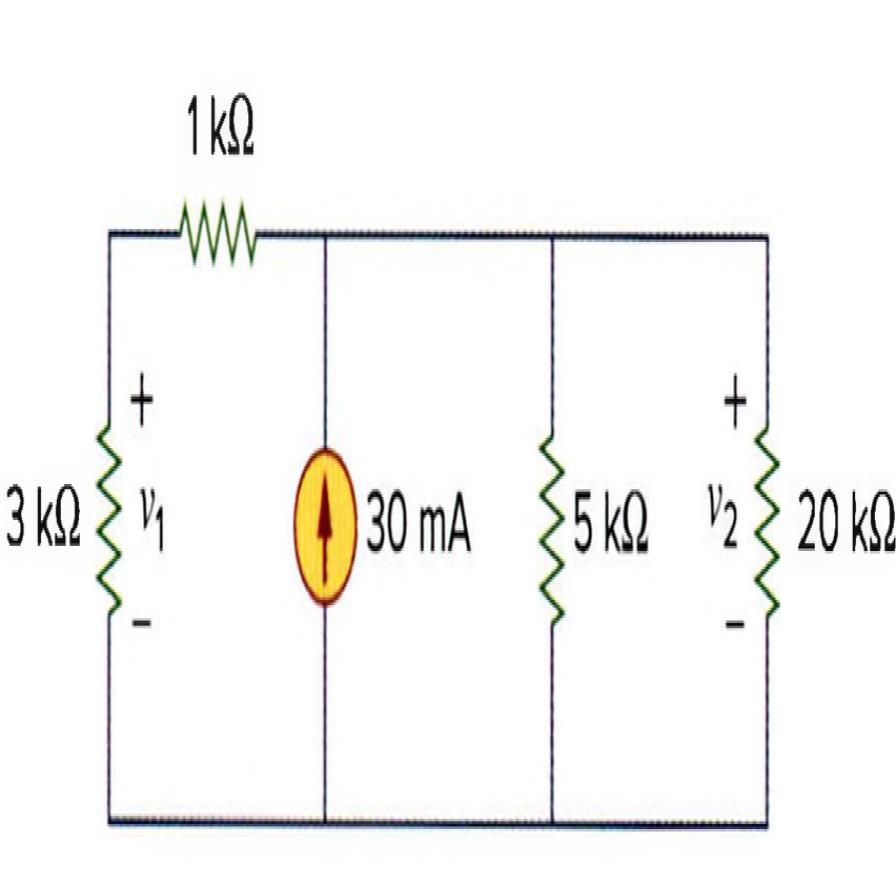I1: (283, 433, 359, 618)
R1: (168, 181, 268, 290)
R2: (83, 405, 131, 649), (523, 416, 572, 650), (742, 424, 788, 642)
